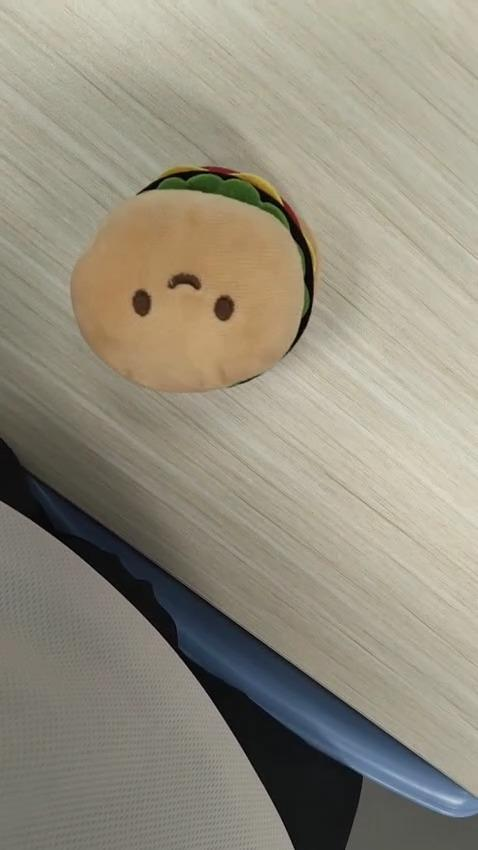hamburger: (69, 164, 324, 392)
